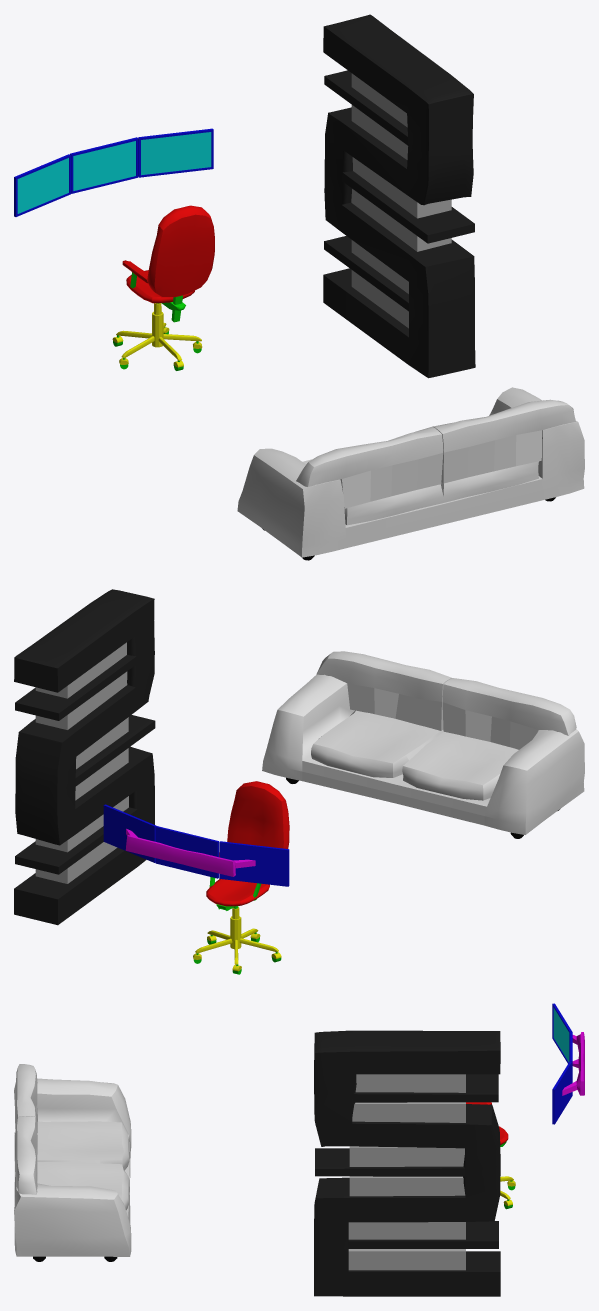
Rendered from GameroomScene1.fbx.
3 renders of one model, top to bottom at view 1: azimuth 30°, elevation 25°; view 2: azimuth 150°, elevation 25°; view 3: azimuth 270°, elevation 25°, orthographic. The views are drawn at different scales.
Parts seen in each view (by area): view 1: Scene1; view 2: Scene1; view 3: Scene1.
Part boxes in pixels (left/top/right/bottom): Scene1: left=14, top=14, right=584, bottom=560; Scene1: left=14, top=589, right=584, bottom=974; Scene1: left=14, top=1003, right=584, bottom=1296.
Bounding box in the file's own units: 7.23 × 5.61 × 11.77.
